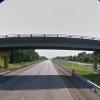Bridge: (5, 22, 96, 57)
